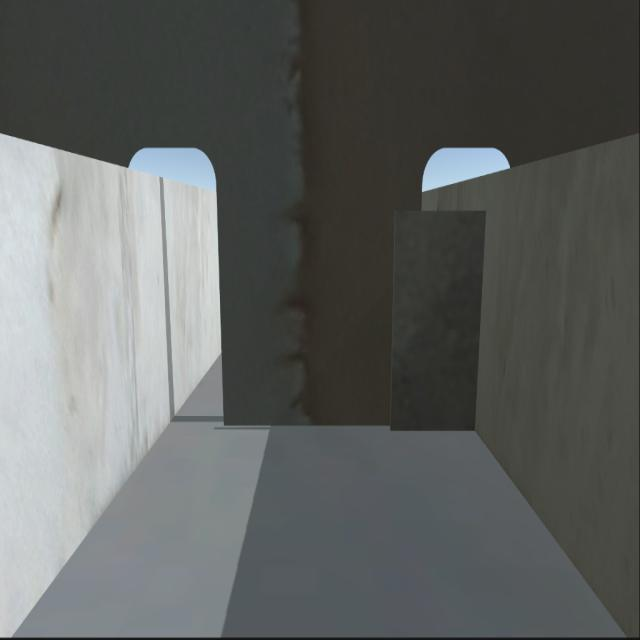fillet_yong_jeop_jang: (222, 417, 477, 438)
longi_yong_jeop_jang: (468, 214, 491, 433)
plate_CP01: (387, 208, 488, 422)
